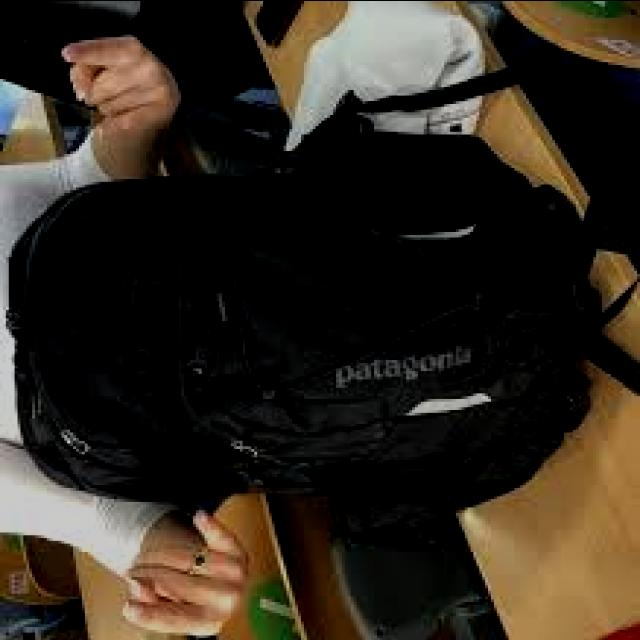backpack: (4, 129, 626, 541)
